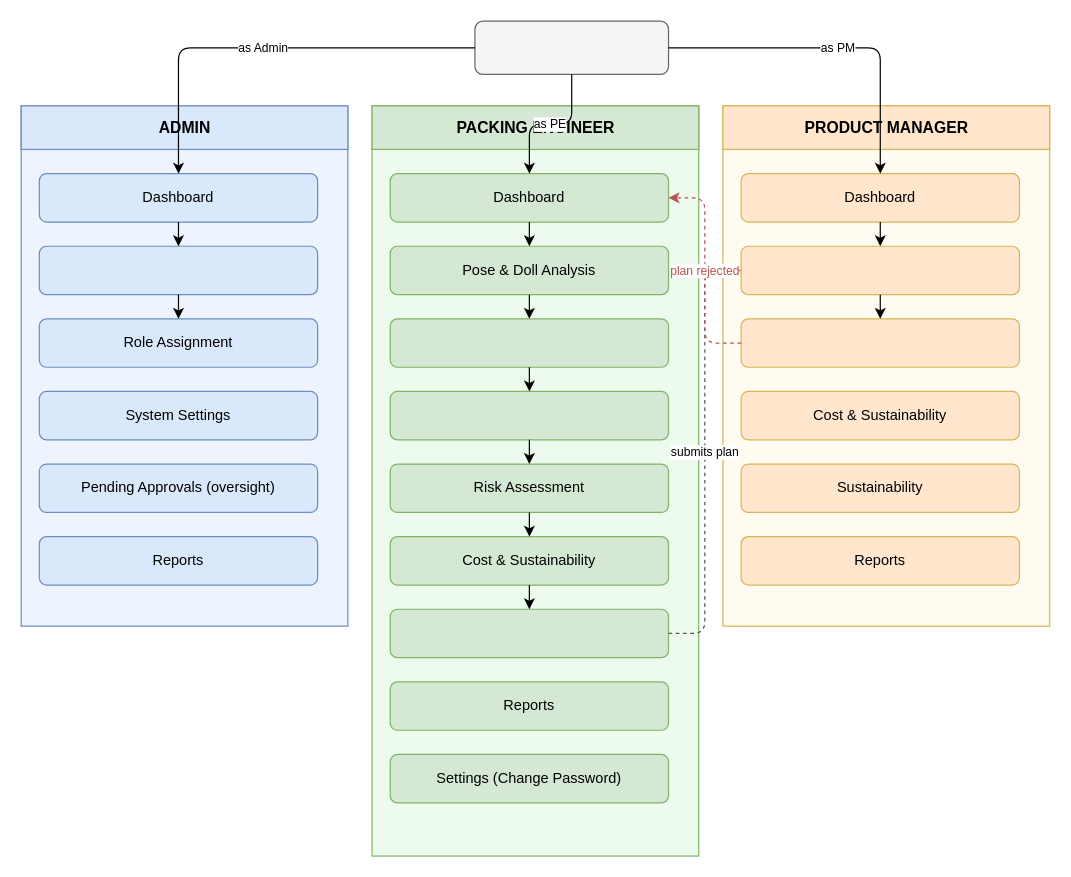
The diagram is 1071 pixels wide and 877 high, and some of its shapes have lost their labels. The centre of each missing label's shape, as x and y in pixels:
Approval Detail: the point at 879,342
Attachment Planner: the point at 529,342
Attachment Visualizer: the point at 529,415
Login Page: the point at 571,47
Pending Approvals: the point at 879,270
Submit Plan: the point at 529,633
User Management: the point at 178,270
